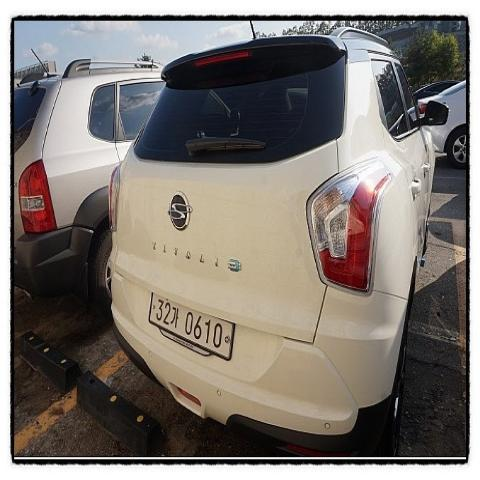LP: (147, 280, 238, 368)
